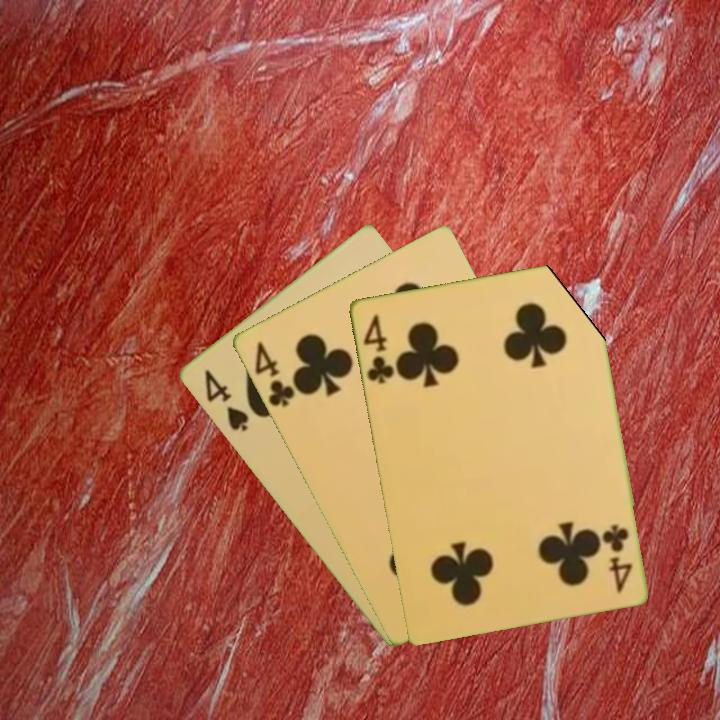4c: (250, 337, 297, 410), (359, 310, 397, 387), (600, 520, 635, 595)
4s: (200, 366, 252, 435)
